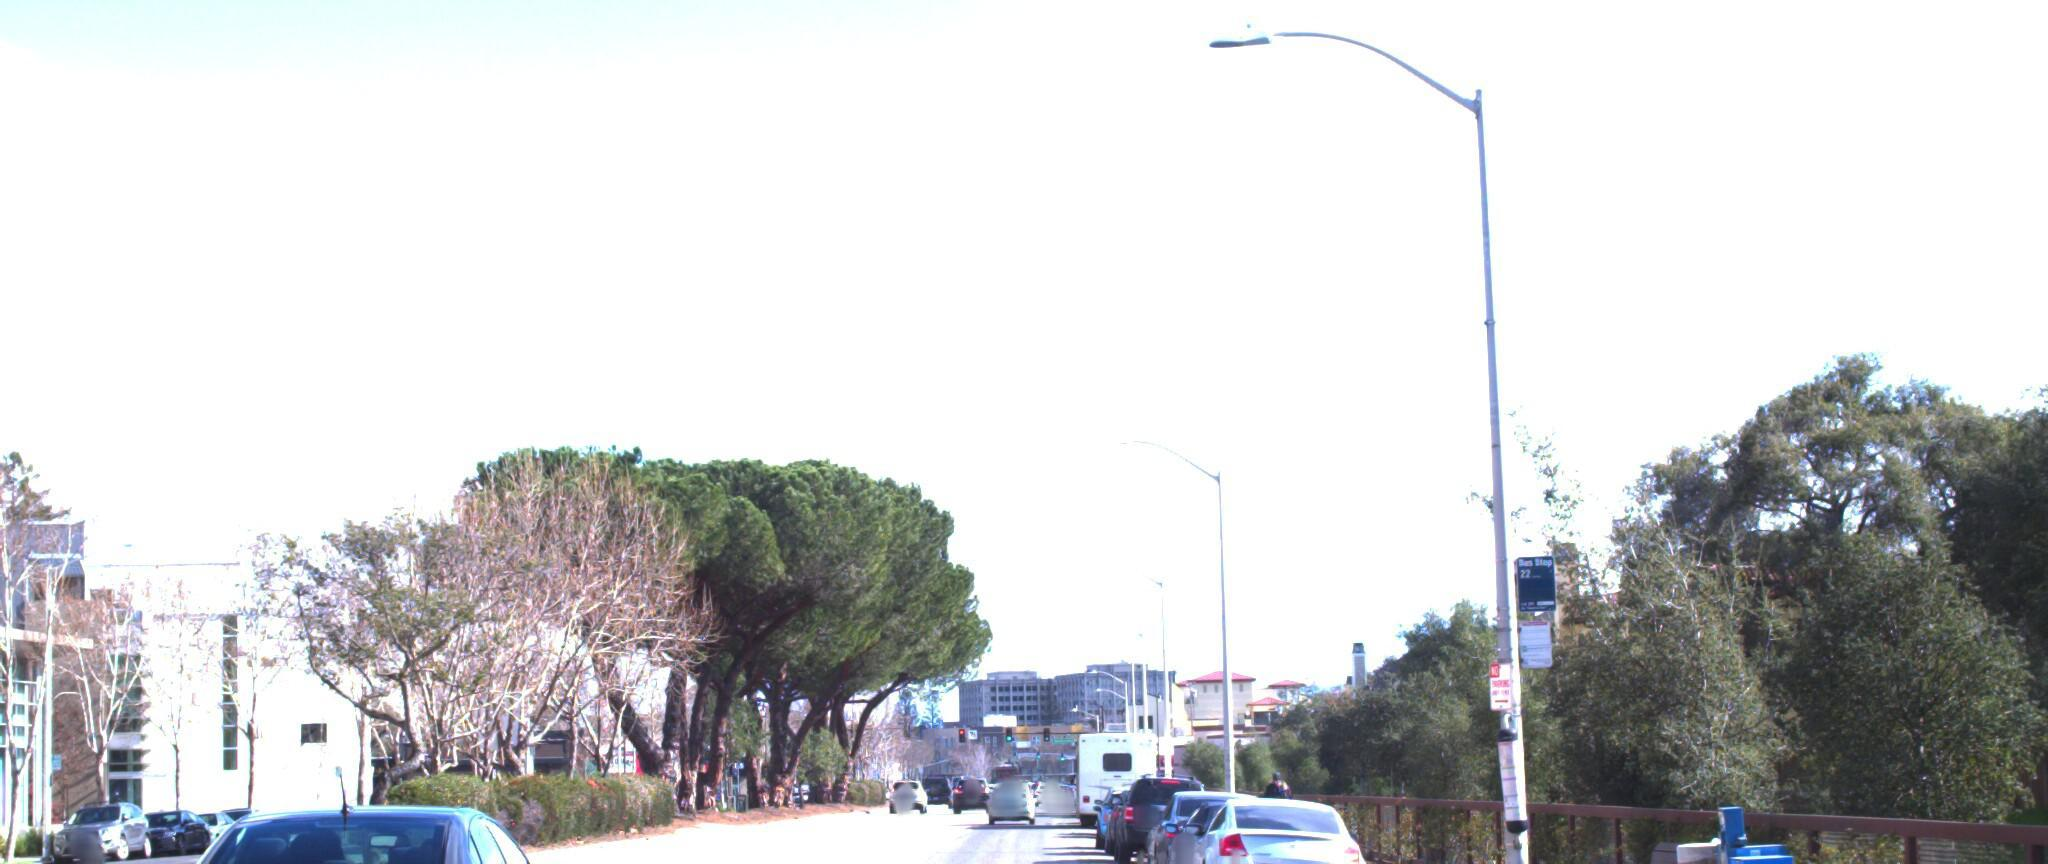car: (89, 783, 585, 864), (1166, 795, 1371, 864), (1148, 791, 1307, 864), (1098, 770, 1209, 864)
